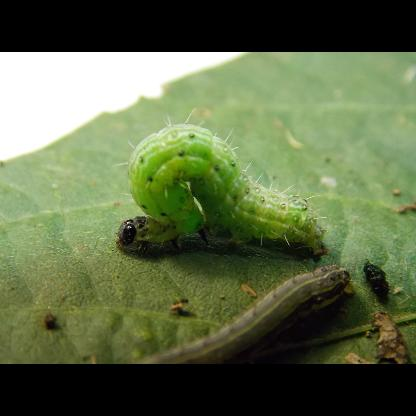oruga: (112, 108, 336, 260)
